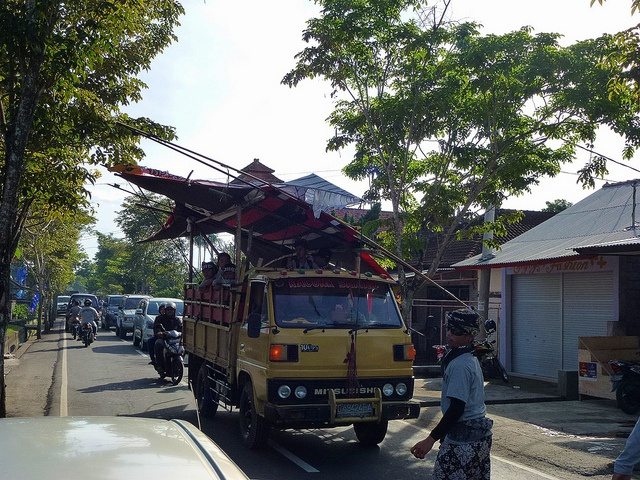non-vehicle: (155, 323, 185, 385), (609, 359, 639, 418), (80, 321, 93, 347), (69, 317, 80, 339), (99, 305, 102, 309)
